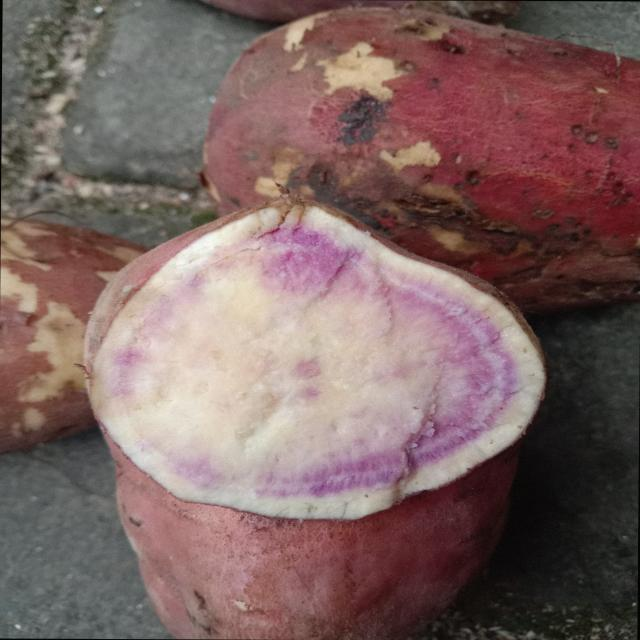Healthy Sweet Potato: (85, 196, 545, 520)
